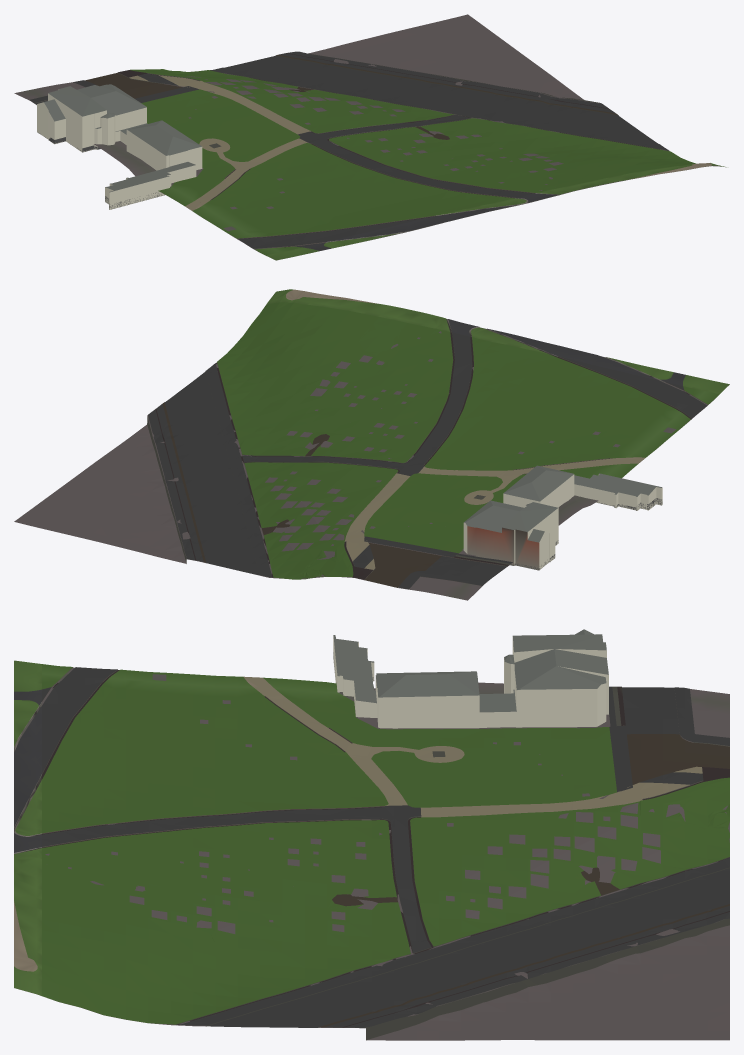
3 views of the same model, one above another, from view 1: azimuth 30°, elevation 25°; view 2: azimuth 150°, elevation 25°; view 3: azimuth 270°, elevation 25° (orthographic). The views are drawn at different scales.
Visible parts, largest first — view 1: c_p00_p05; view 2: c_p00_p05; view 3: c_p00_p05.
Boxes of the visible parts, x1,y1,x2,y2 form: c_p00_p05: [14, 14, 726, 260]; c_p00_p05: [14, 289, 729, 600]; c_p00_p05: [14, 629, 729, 1040].
Size of the model in its own units: 142 by 19.43 by 128.
